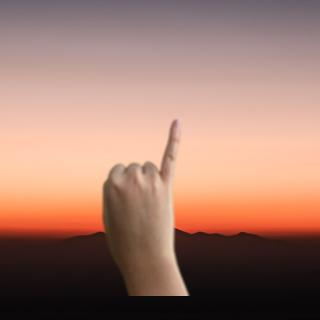Fine: (91, 116, 197, 274)
